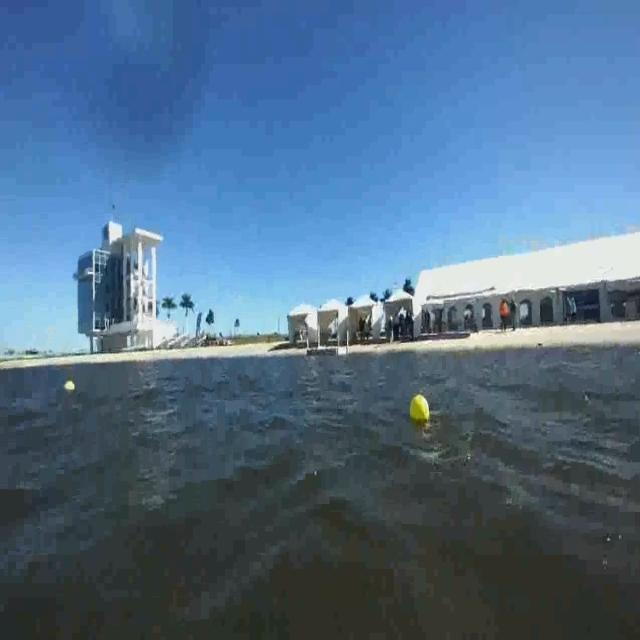yellow-buoy: (409, 394, 431, 424)
